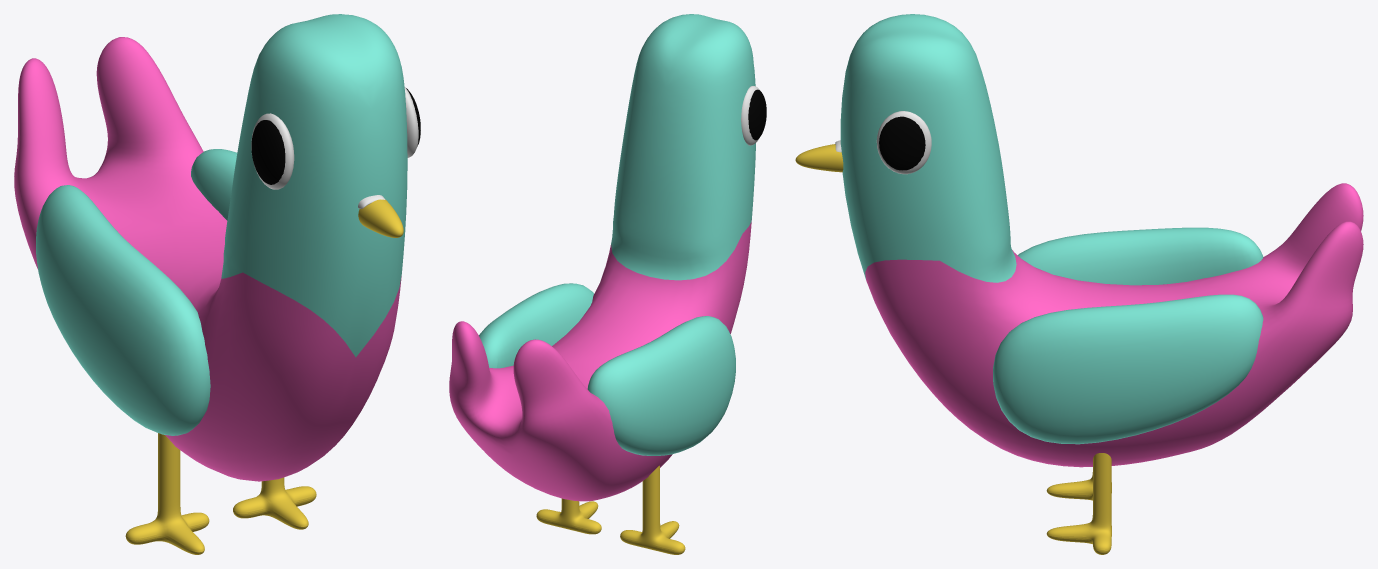
File: pollo.fbx
3 renders of one model, left to right at view 1: azimuth 30°, elevation 25°; view 2: azimuth 150°, elevation 25°; view 3: azimuth 270°, elevation 25°, orthographic. The views are drawn at different scales.
Visible parts, largest first — view 1: Cube, Cube.001, Cube.004, Sphere.001, Cube.002; view 2: Cube, Cube.001, Cube.004, Sphere.001; view 3: Cube, Cube.001, Cube.004, Sphere.001, Cube.002.
Boxes of the visible parts, x1,y1,x2,y2 form: Cube: (14, 14, 407, 481); Cube.001: (36, 149, 237, 435); Cube.004: (125, 433, 316, 554); Sphere.001: (251, 87, 420, 189); Cube.002: (358, 199, 403, 237); Cube: (449, 14, 755, 501); Cube.001: (479, 283, 735, 455); Cube.004: (536, 465, 685, 554); Sphere.001: (741, 86, 766, 145); Cube: (840, 14, 1363, 467); Cube.001: (993, 227, 1263, 444); Cube.004: (1046, 453, 1111, 554); Sphere.001: (876, 111, 931, 174); Cube.002: (795, 144, 843, 172).
Size of the model in its own units: 239 by 538 by 562.
